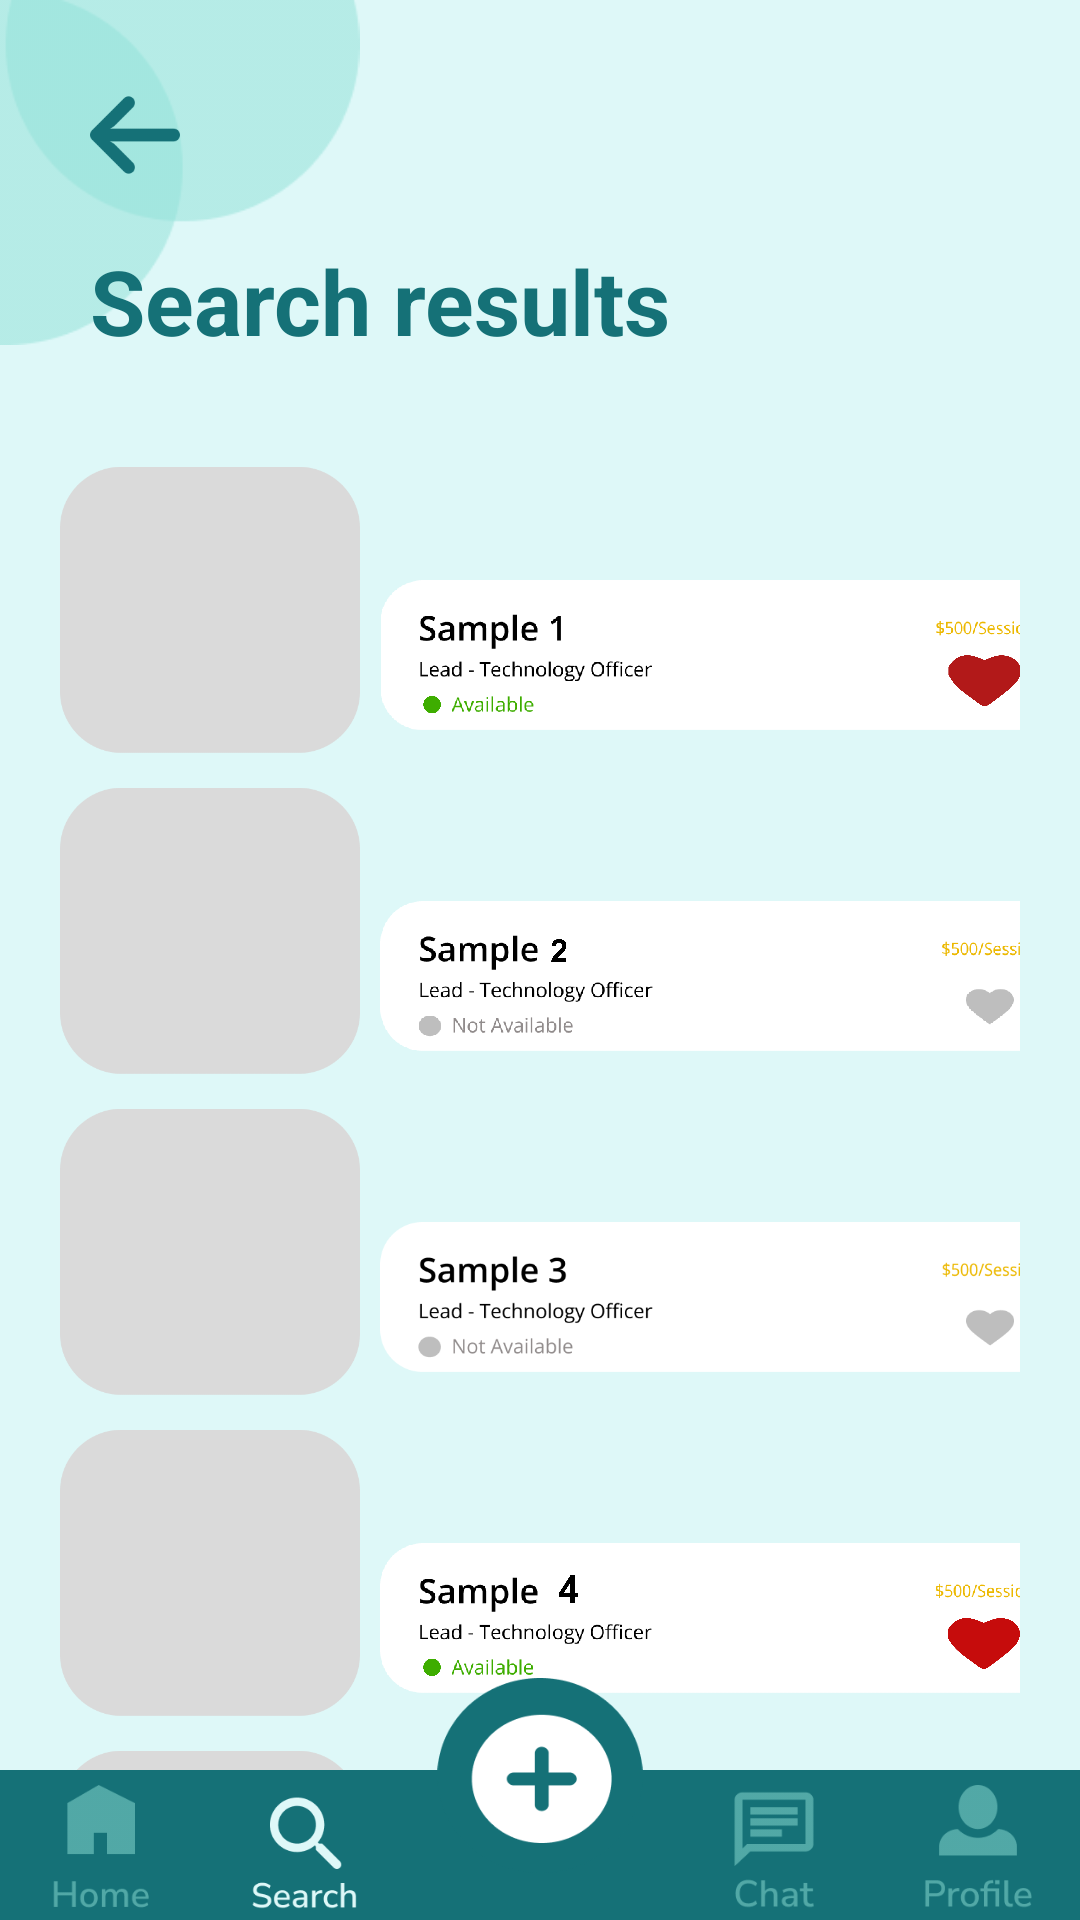

Where to tap for icons on this 1080w x 1920h app screen, as [x,y]:
add: [540,1775]
